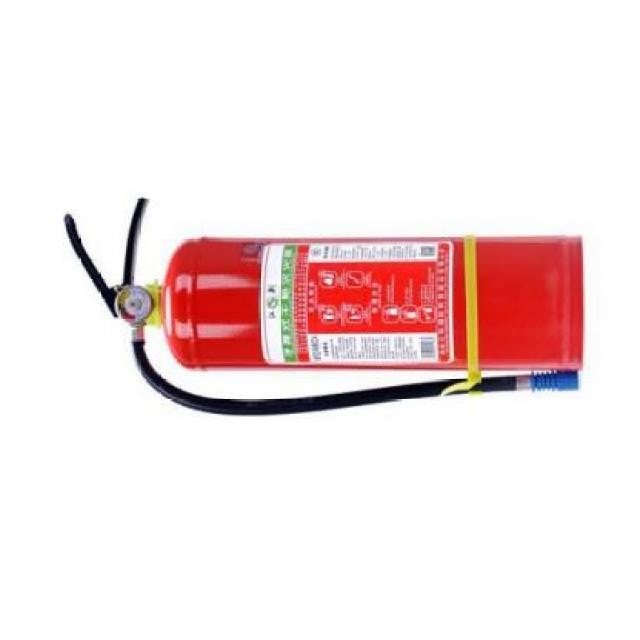fire extinguisher: (64, 197, 585, 417)
